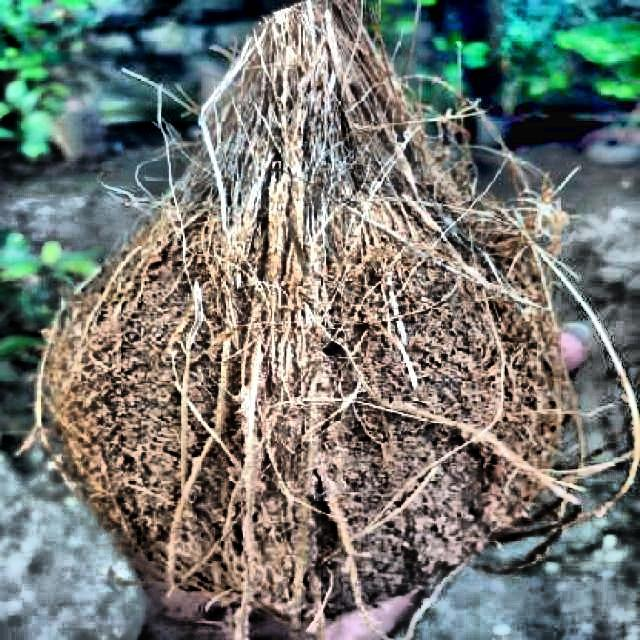good: (51, 9, 640, 640)
